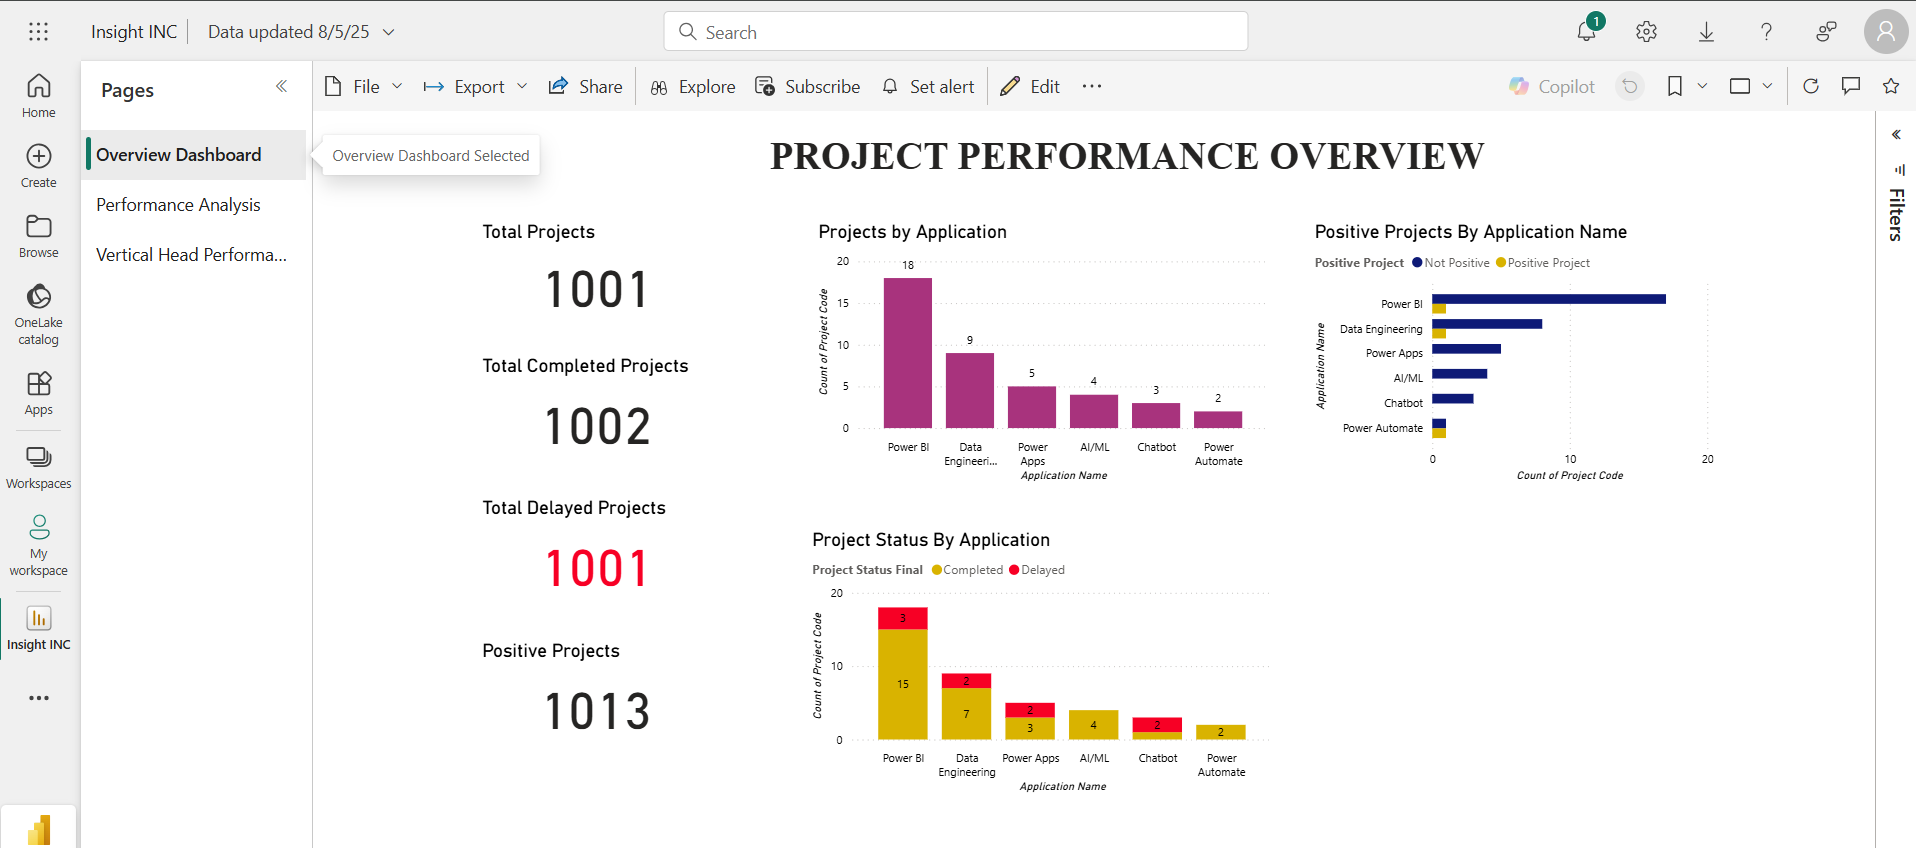

This screenshot's page, from the dashboard's own definition file:
{"tool":"powerbi","page":{"name":"Overview Dashboard","canvas":[1280,720],"ordinal":0},"visuals":[{"type":"card","title":"Total Projects","fields":{"Values":["Min(Project Status.Project Code)"]},"box":[38.8,107.5,233.8,96.2],"z":0},{"type":"card","title":"Total Completed Projects","fields":{"Values":["Min(Project Status.Project Code)"]},"box":[38.8,237.5,232.5,105],"z":1000},{"type":"card","title":"Total Delayed Projects","fields":{"Values":["Min(Project Status.Project Code)"]},"box":[38.8,376.2,233.8,105],"z":2000},{"type":"clusteredColumnChart","title":"Projects by Application","fields":{"Category":["Project Status.Application Name"],"Y":["CountNonNull(Project Status.Project Code)"]},"box":[366.2,107.5,448.8,258.8],"z":3000},{"type":"columnChart","title":"Project Status By Application","fields":{"Category":["Project Status.Application Name"],"Y":["CountNonNull(Project Status.Project Code)"],"Series":["Project Status.Project Status"]},"box":[360.7,406.9,458.8,262.6],"z":4000},{"type":"card","title":"Positive Projects","fields":{"Values":["Min(Project Status.Project Code)"]},"box":[38.8,515,232.5,105],"z":5000},{"type":"clusteredBarChart","title":"Positive Projects By Application Name","fields":{"Series":["Project Status.Positive Project"],"Y":["CountNonNull(Project Status.Project Code)"],"Category":["Project Status.Application Name"]},"box":[850,107.5,398.8,258.8],"z":6000},{"type":"textbox","box":[296.2,17.5,753.8,65],"z":7000}]}

Visuals, with their boxes on the page's 1280x720 design canvas (x1, y1, x2, y2). These are canvas units, not pixel positions in the 1916x848 screenshot, which may show the page scaled, cropped or inside an application window:
"Total Projects" card: rect(39, 108, 273, 204)
"Total Completed Projects" card: rect(39, 238, 271, 342)
"Total Delayed Projects" card: rect(39, 376, 273, 481)
"Projects by Application" clusteredColumnChart: rect(366, 108, 815, 366)
"Project Status By Application" columnChart: rect(361, 407, 820, 670)
"Positive Projects" card: rect(39, 515, 271, 620)
"Positive Projects By Application Name" clusteredBarChart: rect(850, 108, 1249, 366)
textbox: rect(296, 18, 1050, 82)
